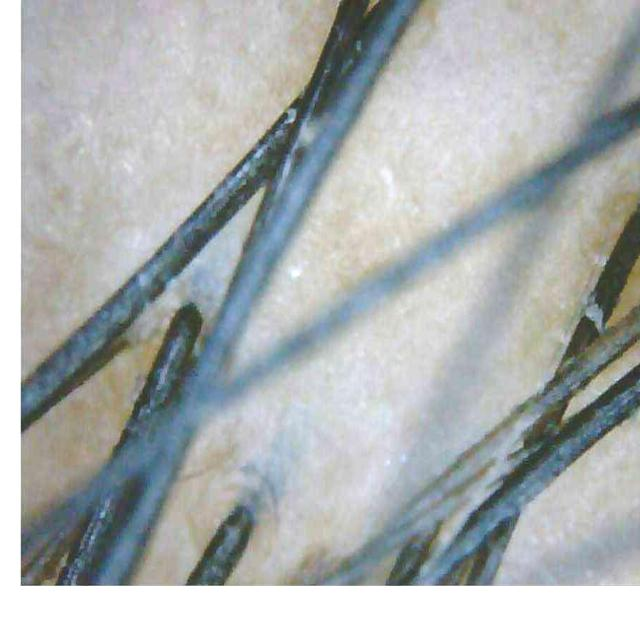d: (585, 303, 604, 332)
